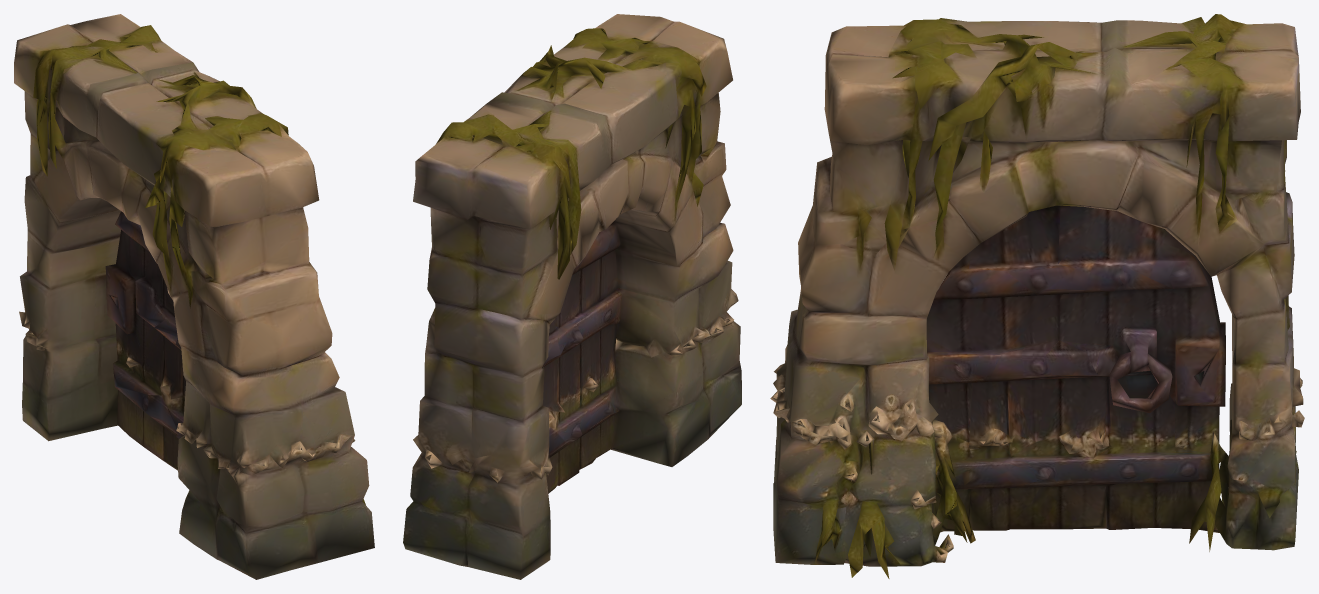
The model's file is model-prop-sea-door-01.glb.
The picture shows the model from 3 angles, left to right: view 1: azimuth 30°, elevation 25°; view 2: azimuth 150°, elevation 25°; view 3: azimuth 270°, elevation 25°; orthographic projection. The views are drawn at different scales.
Visible parts, largest first — view 1: tripo_node_e83e7fc5-a754-4e66-acf8-2f344ac08bf5; view 2: tripo_node_e83e7fc5-a754-4e66-acf8-2f344ac08bf5; view 3: tripo_node_e83e7fc5-a754-4e66-acf8-2f344ac08bf5.
Boxes of the visible parts, <box> form: tripo_node_e83e7fc5-a754-4e66-acf8-2f344ac08bf5: <box>14,14,374,579</box>; tripo_node_e83e7fc5-a754-4e66-acf8-2f344ac08bf5: <box>403,14,741,579</box>; tripo_node_e83e7fc5-a754-4e66-acf8-2f344ac08bf5: <box>770,14,1304,578</box>.
Bounding box in the file's own units: 1.17 × 2.5 × 2.49.
Materials: 1 (1 with a texture image).
